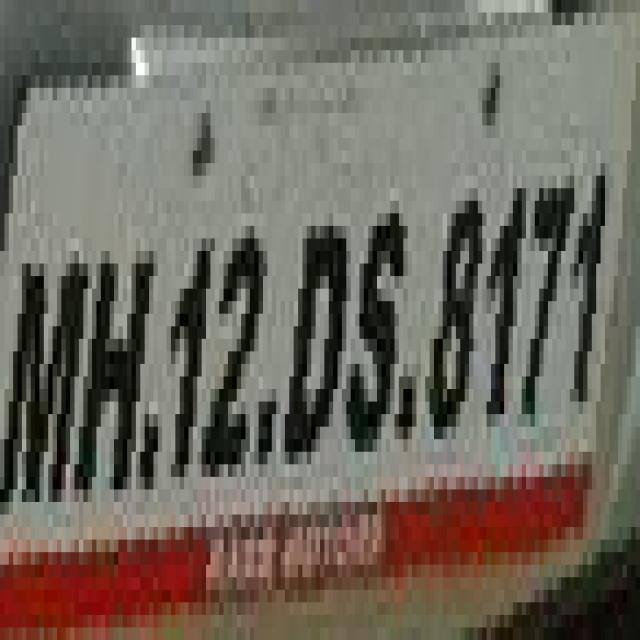plate: (0, 25, 596, 515)
